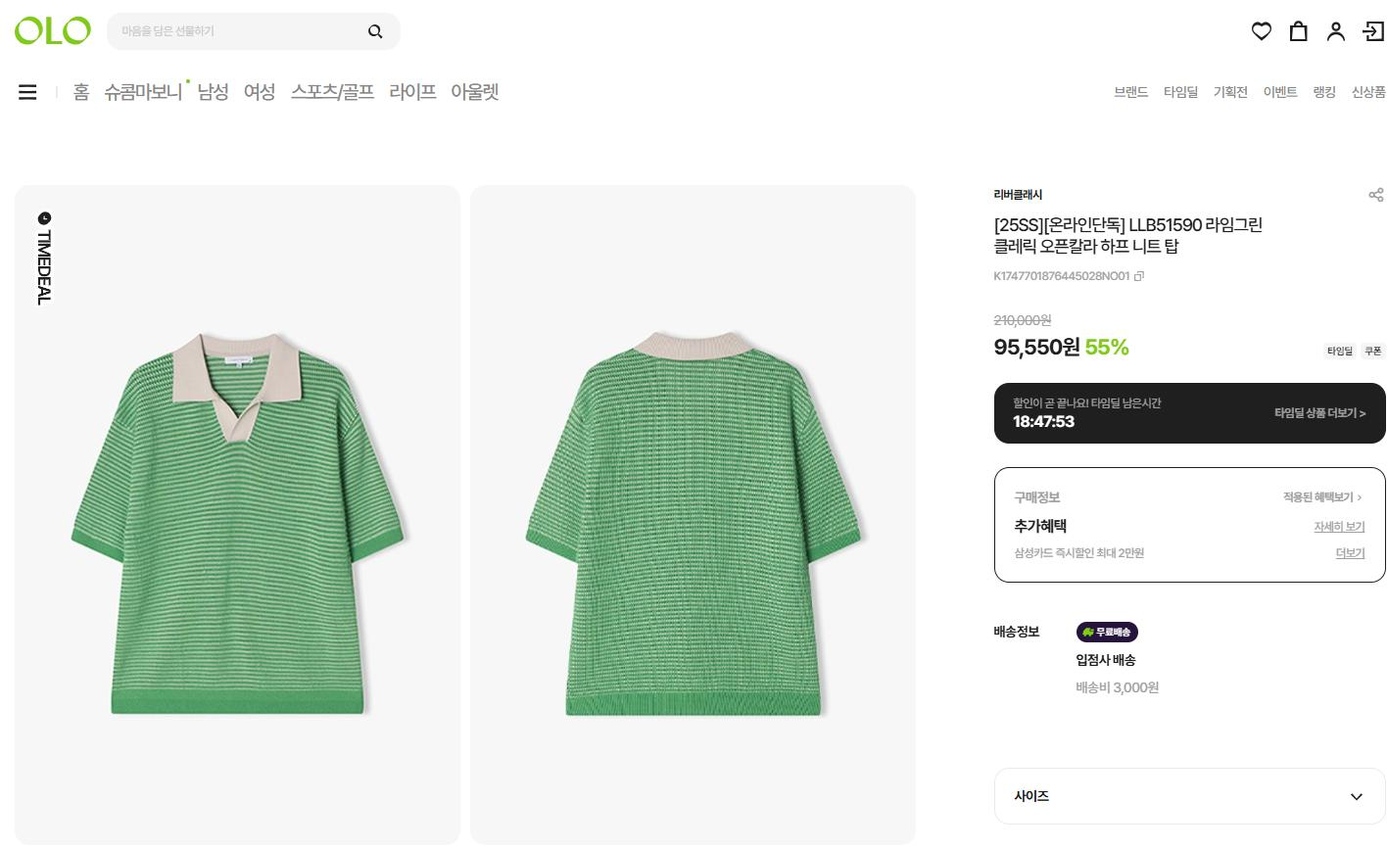button: (992, 386, 1382, 444), (295, 72, 386, 114), (1277, 483, 1375, 515), (380, 78, 463, 111), (114, 75, 185, 102), (446, 78, 501, 109), (200, 75, 244, 108), (1211, 77, 1261, 104), (242, 77, 284, 105), (1107, 82, 1156, 106), (1354, 177, 1387, 209), (1280, 13, 1311, 47), (69, 75, 107, 102), (1313, 520, 1373, 537), (1240, 18, 1271, 50), (1359, 10, 1387, 44), (1262, 82, 1308, 102), (1169, 86, 1206, 109), (1325, 547, 1371, 564), (1321, 16, 1342, 47), (1308, 81, 1343, 98), (1347, 87, 1387, 95)
checkbox: (988, 756, 1382, 831), (6, 82, 51, 116)
input_field: (102, 7, 408, 59)
